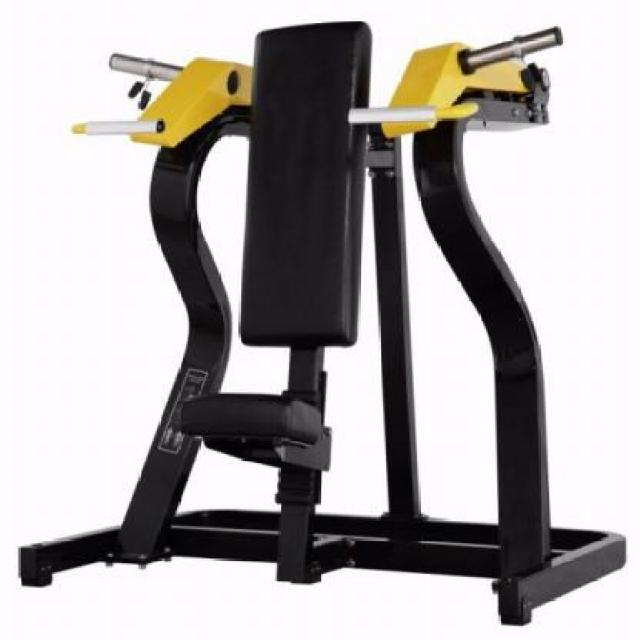shoulder press machine: (17, 9, 637, 637)
